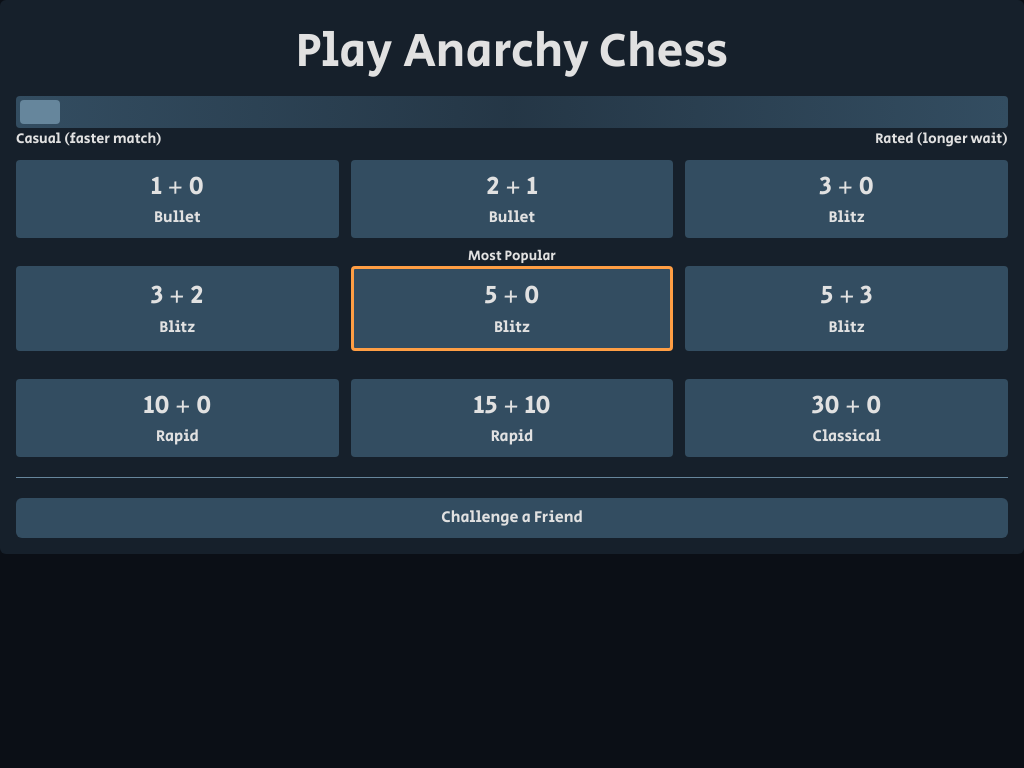
Test: PlayOptions › should open challenge popup when clicking on challenge a friend
This screenshot has width=1024, height=768.
Click the button "Challenge a Friend": coordinates (512, 518) [16, 498, 1008, 538]
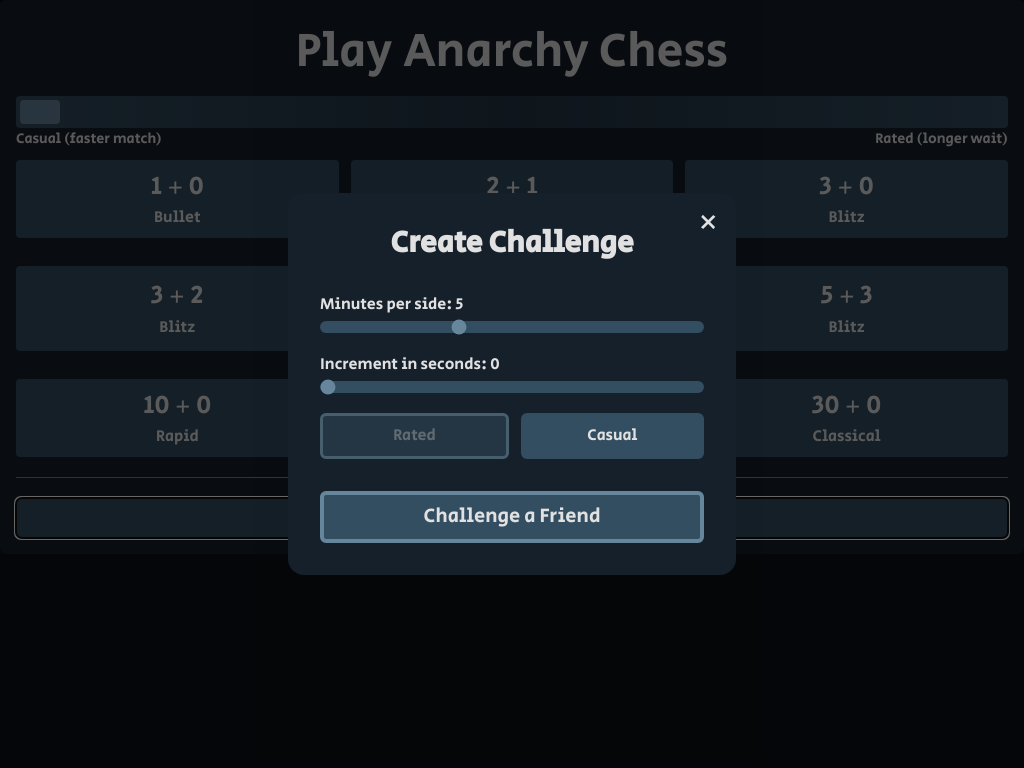
Check: the element with test id "challengePopup" is shown, box [288, 193, 736, 575]
